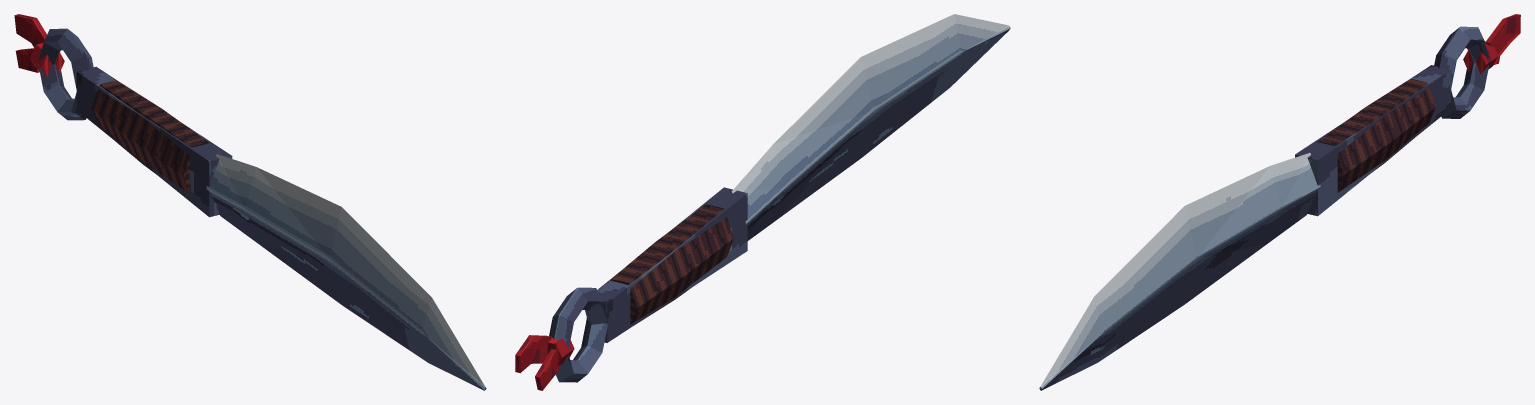
The model's file is messer-e-geschoss.glb.
3 renders of one model, left to right at view 1: azimuth 30°, elevation 25°; view 2: azimuth 150°, elevation 25°; view 3: azimuth 330°, elevation 25°, orthographic. The views are drawn at different scales.
Visible parts, largest first — view 1: knife; view 2: knife; view 3: knife.
Boxes of the visible parts, x1,y1,x2,y2 form: knife: (14, 14, 486, 390); knife: (515, 14, 1010, 390); knife: (1039, 14, 1520, 390).
Bounding box in the file's own units: 0.018 × 0.0515 × 0.386.
1 material, 1 textured.
